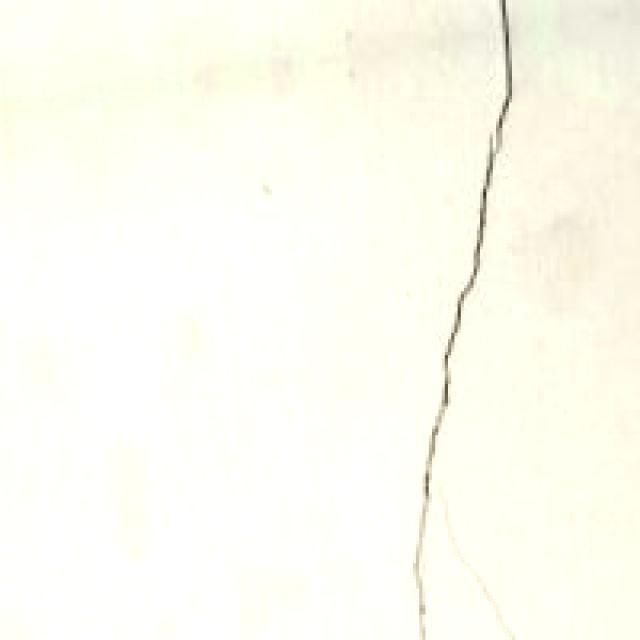crack: (364, 0, 548, 640)
